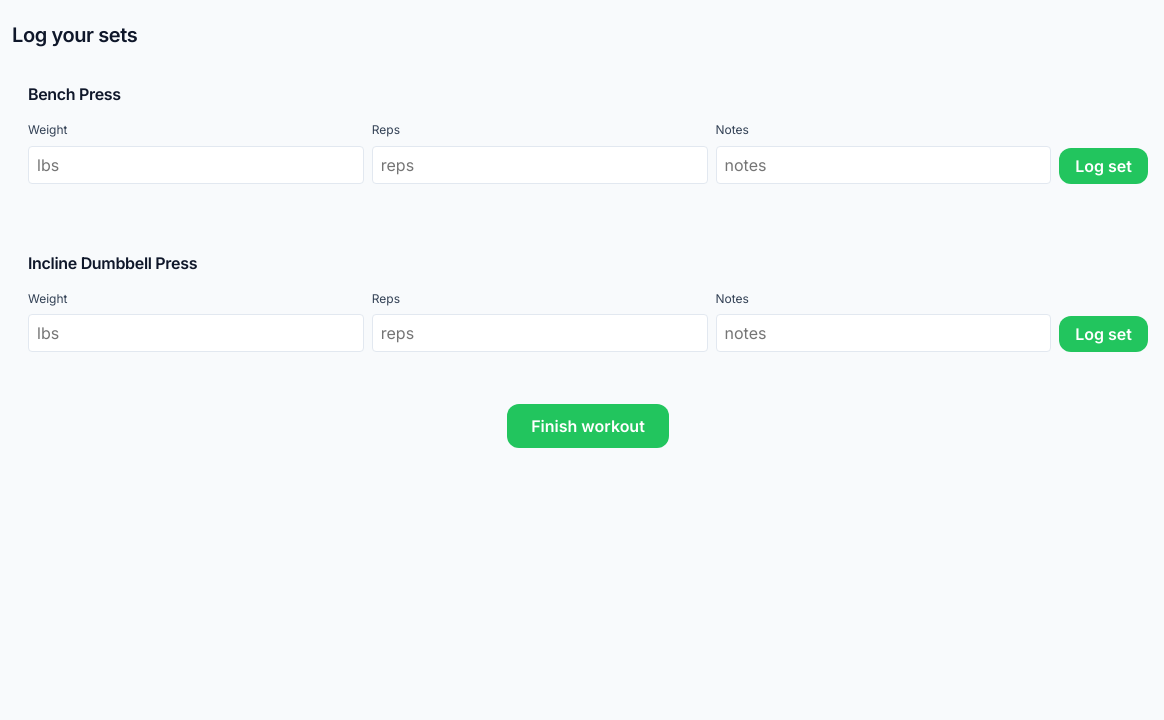
Test: AnonymousWorkoutLogger › logs a set and displays it in the list
The width and height of the screenshot is (1164, 720).
Type "225" into the number field with placeholder "lbs" below "Bench Press".
click(196, 165); type("225")  # box [28,146,364,184]
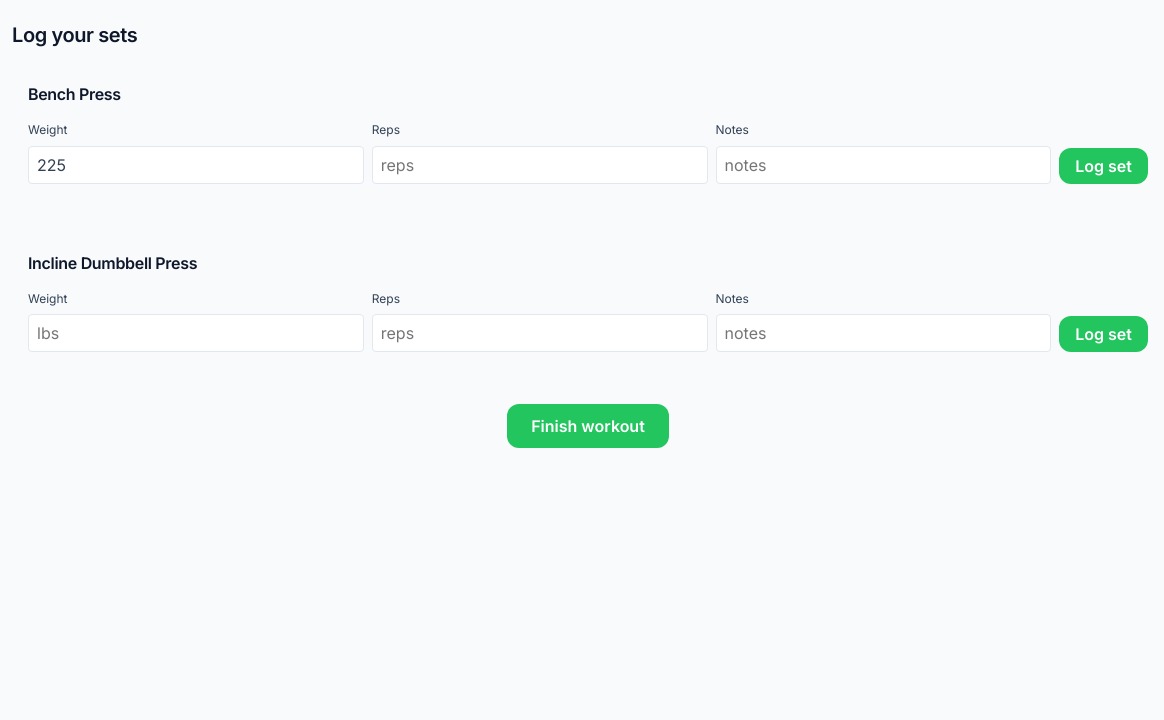
Type "8" into the number field with placeholder "reps" below "Bench Press".
click(540, 165); type("8")  # box [372,146,708,184]
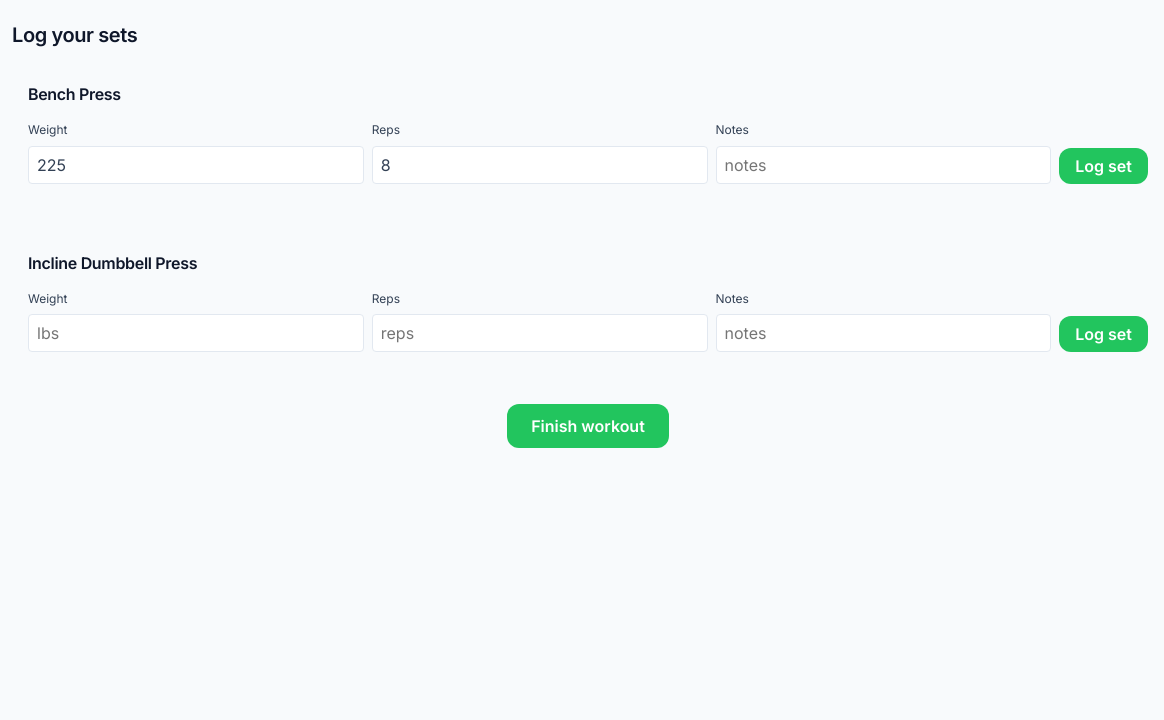
Click the 1st button "Log set".
click(1104, 166)  # box [1059,148,1148,184]
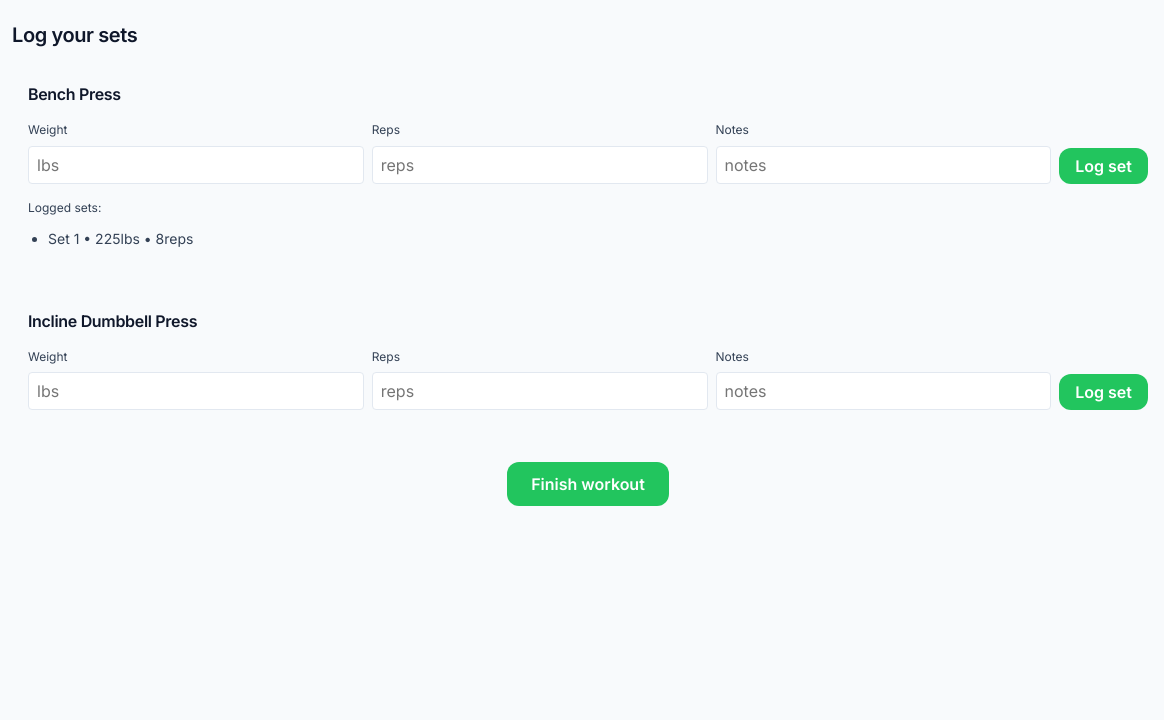
Result: the list item "Set 1 • 225lbs • 8reps" is shown at [48,230,194,247]
Result: the text "• 225lbs" is shown at [79,230,140,247]
Result: the text "• 8reps" is shown at [140,230,194,247]
